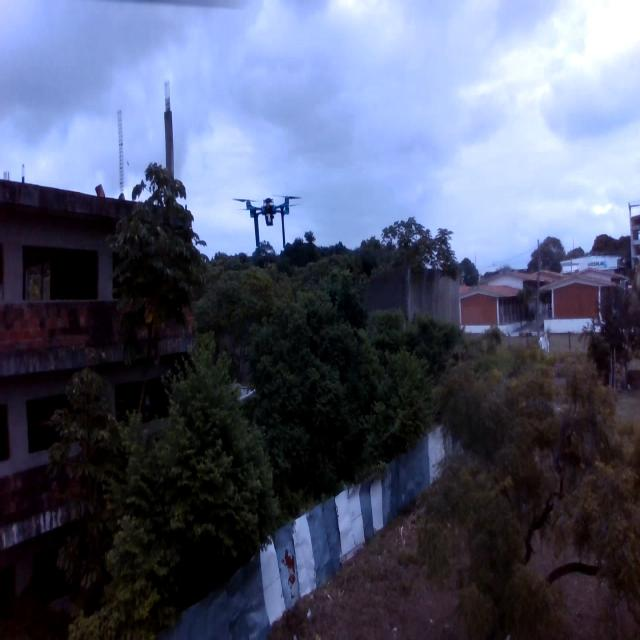-uav-: (227, 182, 306, 252)
